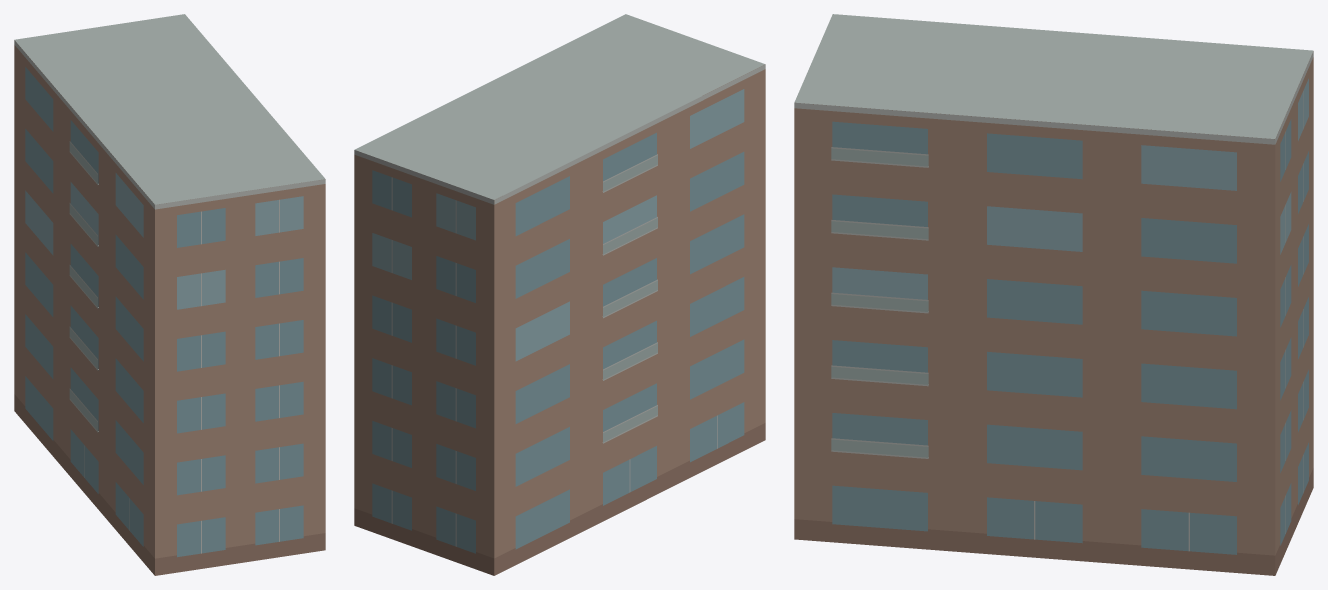
File: survey-upis-32714446.glb
3 renders of one model, left to right at view 1: azimuth 30°, elevation 25°; view 2: azimuth 150°, elevation 25°; view 3: azimuth 270°, elevation 25°, orthographic. The views are drawn at different scales.
Visible parts, largest first — view 1: survey-upis-32714446.tmp; view 2: survey-upis-32714446.tmp; view 3: survey-upis-32714446.tmp.
Part boxes in pixels (x1,y1,x2,y2): survey-upis-32714446.tmp: (14,14,325,575); survey-upis-32714446.tmp: (354,14,765,575); survey-upis-32714446.tmp: (794,14,1313,575).
Size of the model in its own units: 11.69 by 19 by 20.49.
